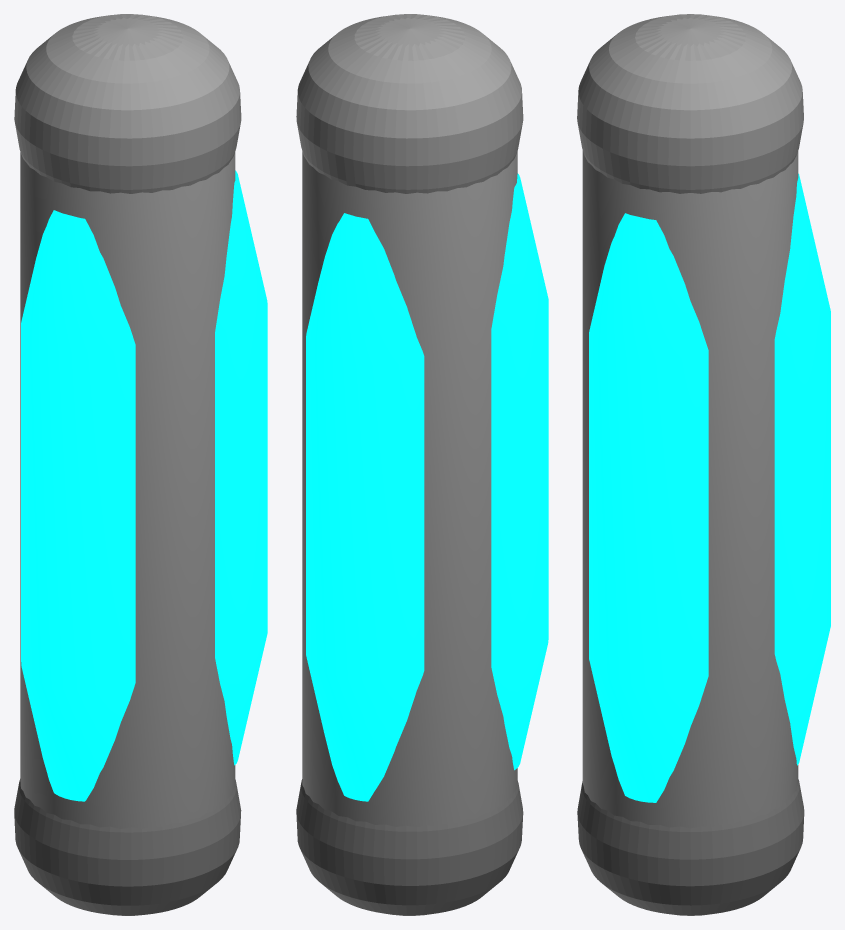
File: ExportedBlenderFBXFile.fbx
3 renders of one model, left to right at view 1: azimuth 30°, elevation 25°; view 2: azimuth 150°, elevation 25°; view 3: azimuth 270°, elevation 25°, orthographic.
Visible parts, largest first — view 1: Cylinder.005, Cylinder.002, Cylinder.006, Cylinder.003, Cylinder.004; view 2: Cylinder.005, Cylinder.001, Cylinder.006, Cylinder.002, Cylinder.004; view 3: Cylinder.005, Cylinder.003, Cylinder.006, Cylinder.001, Cylinder.004.
Boxes of the visible parts, <box> form: Cylinder.005: <box>20,152,235,828</box>; Cylinder.002: <box>21,210,135,801</box>; Cylinder.006: <box>14,14,241,193</box>; Cylinder.003: <box>215,170,267,765</box>; Cylinder.004: <box>14,779,241,915</box>; Cylinder.005: <box>302,151,517,827</box>; Cylinder.001: <box>306,213,424,801</box>; Cylinder.006: <box>296,14,523,193</box>; Cylinder.002: <box>491,173,548,770</box>; Cylinder.004: <box>296,779,523,915</box>; Cylinder.005: <box>582,150,798,828</box>; Cylinder.003: <box>589,213,708,802</box>; Cylinder.006: <box>577,14,803,193</box>; Cylinder.001: <box>774,173,830,765</box>; Cylinder.004: <box>577,779,804,915</box>.
Bounding box in the file's own units: 1.07 × 3.9 × 1.03.
